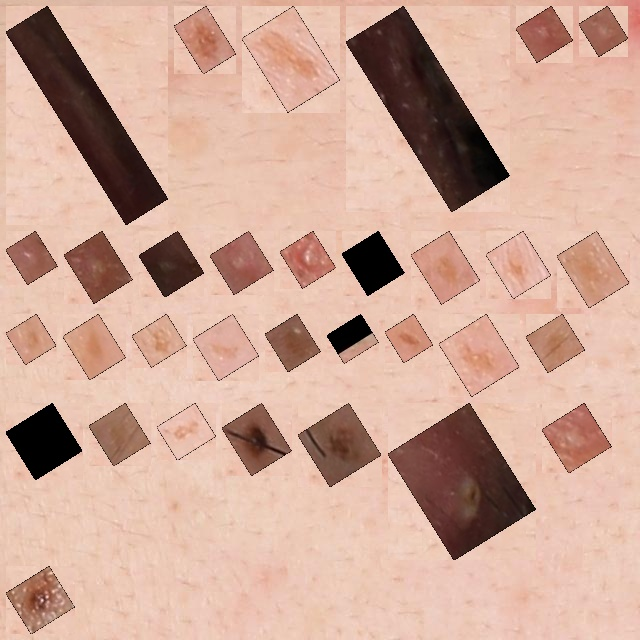hypertrophic_scar: (17, 17, 157, 213), (357, 17, 499, 201)
melasma: (253, 17, 329, 101), (450, 325, 508, 385), (17, 414, 71, 469), (568, 242, 618, 297), (422, 242, 469, 293), (204, 325, 248, 369), (497, 242, 540, 287), (74, 325, 115, 368), (353, 242, 393, 284), (100, 414, 139, 455), (537, 325, 574, 361), (168, 414, 205, 449), (276, 325, 310, 360), (143, 325, 175, 356), (17, 325, 45, 353), (338, 325, 367, 352), (396, 325, 422, 352)
nevus: (309, 414, 370, 476), (233, 414, 281, 464), (17, 577, 64, 623)
pustule: (399, 414, 525, 549), (75, 242, 121, 292), (553, 414, 600, 462), (150, 242, 193, 286), (221, 242, 262, 283), (527, 17, 562, 51), (291, 242, 325, 277), (17, 242, 46, 273), (590, 17, 617, 45)
